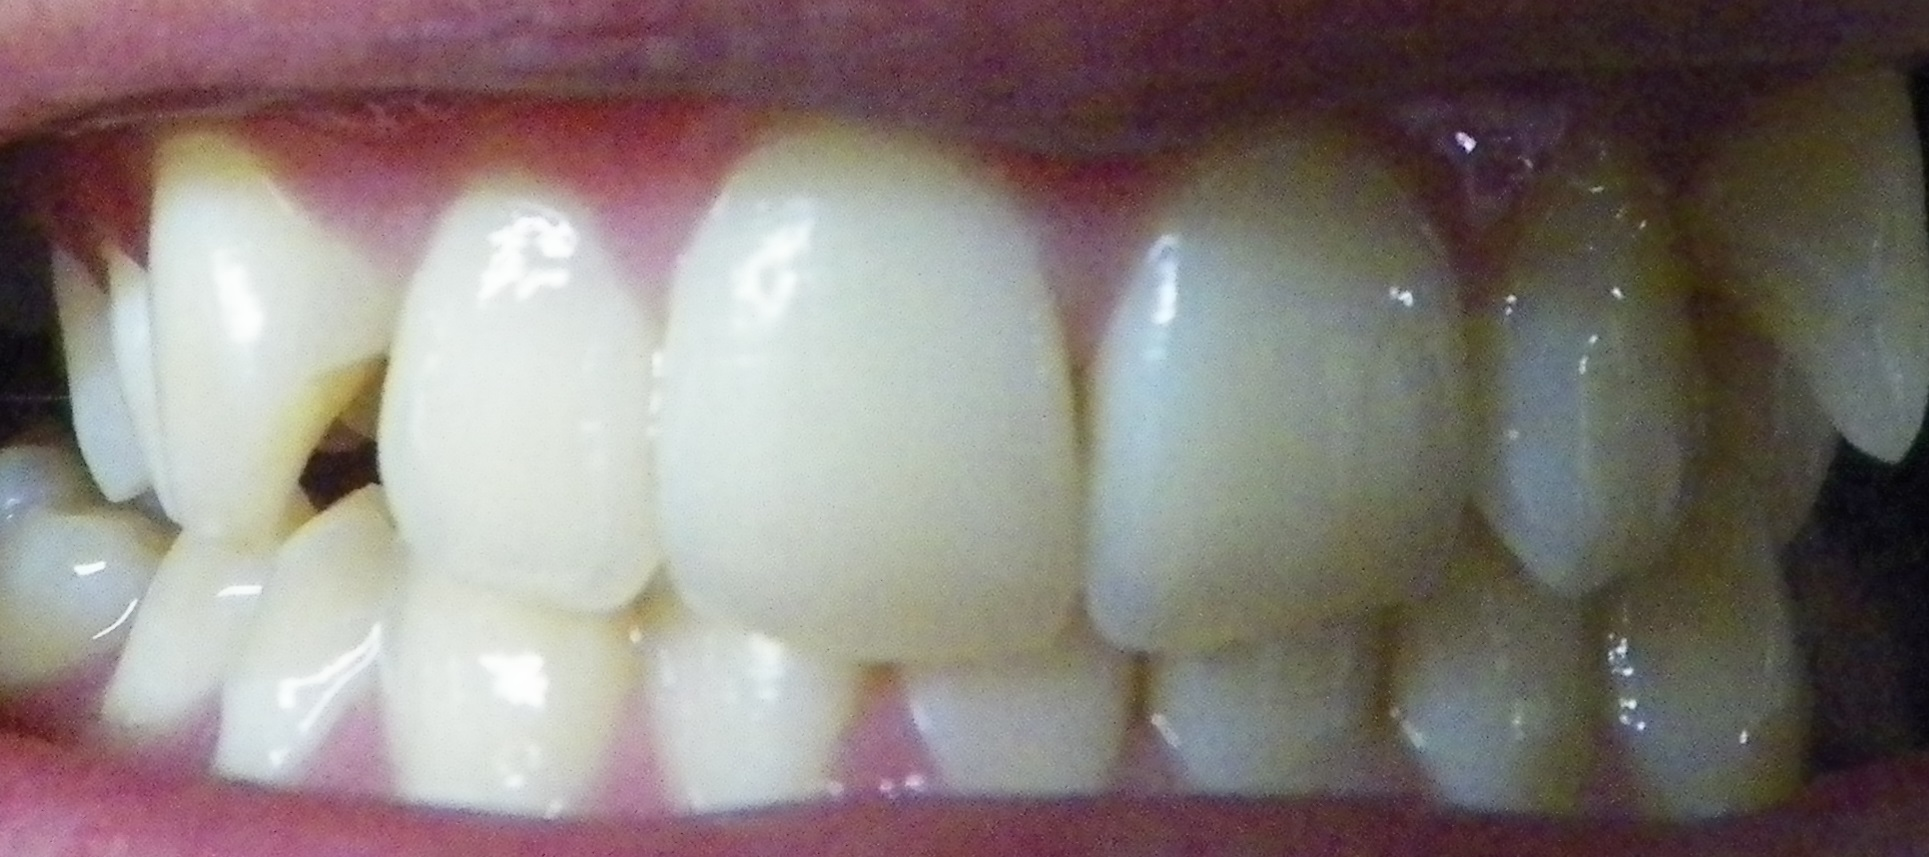boca: (1, 120, 1929, 807)
